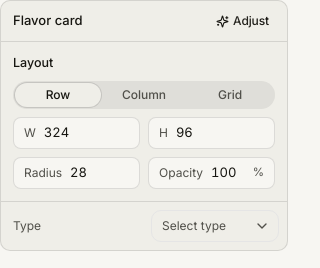
FineTuneCard — layout, Adjust, Edited › shows Edited only once something differs from the defaults
Expected: the text "Edited" is not shown
Replace the text in the number field labelled "W" with "400" at (86,133), box [44, 123, 129, 142]
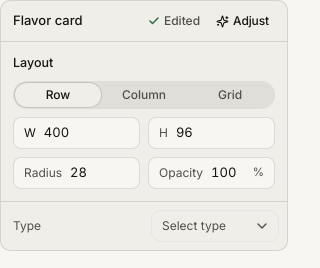
Now the text "Edited" is shown, box [148, 12, 200, 30]
